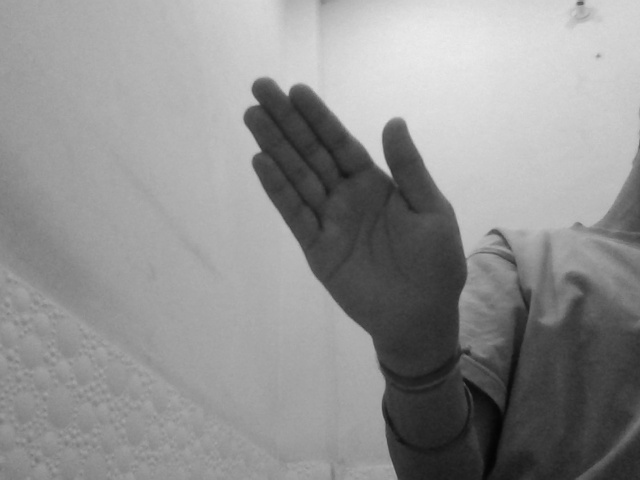Hello: (239, 74, 469, 371)
